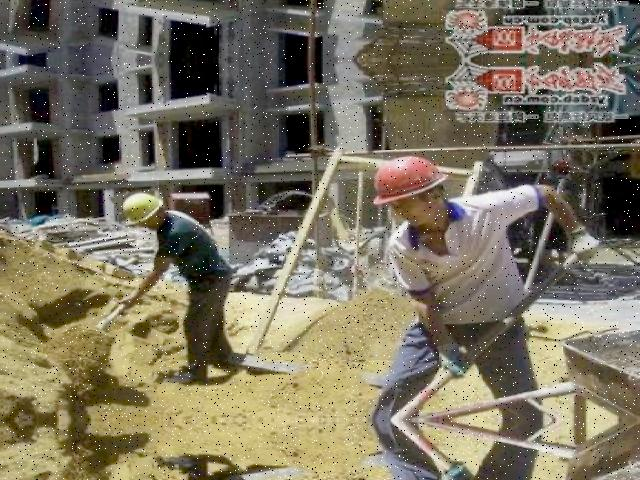Helmet: (362, 150, 456, 213), (120, 188, 171, 228)
